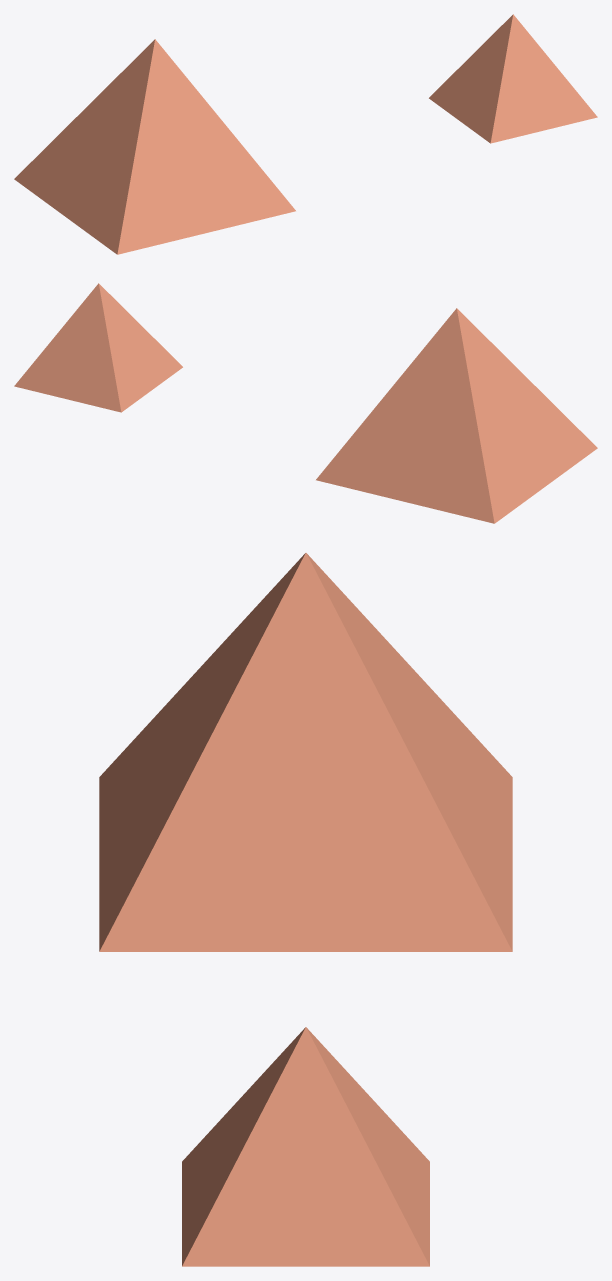
3 views of the same model, one above another, from view 1: azimuth 30°, elevation 25°; view 2: azimuth 150°, elevation 25°; view 3: azimuth 270°, elevation 25° (orthographic). The views are drawn at different scales.
Visible parts, largest first — view 1: PyramidA, PyramidB; view 2: PyramidA, PyramidB; view 3: PyramidA, PyramidB.
Part boxes in pixels (bbox=[...]): PyramidA: bbox=[14, 39, 295, 254]; PyramidB: bbox=[429, 14, 597, 143]; PyramidA: bbox=[316, 308, 597, 523]; PyramidB: bbox=[14, 283, 182, 412]; PyramidA: bbox=[99, 553, 512, 951]; PyramidB: bbox=[182, 1027, 429, 1266].
Bounding box in the file's own units: 3.36 × 1 × 1.2.
